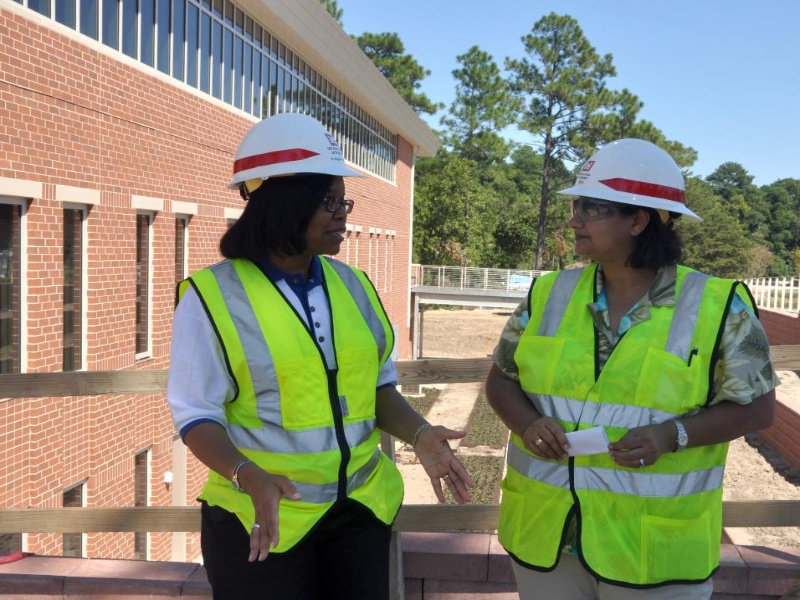Baret: (554, 138, 695, 206), (229, 113, 365, 181)
Gozluk: (567, 199, 655, 222)
